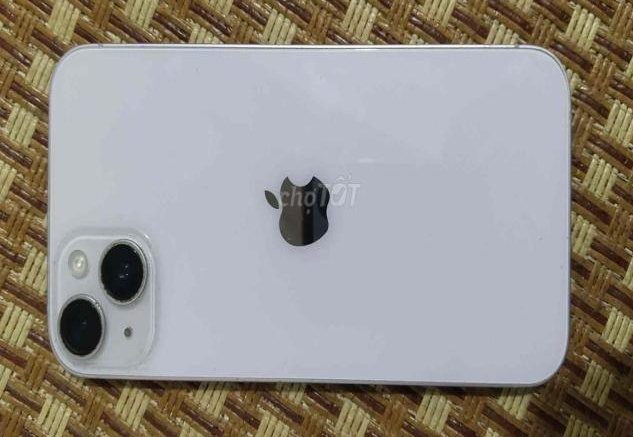scratch: (93, 232, 153, 320), (55, 292, 113, 368)
